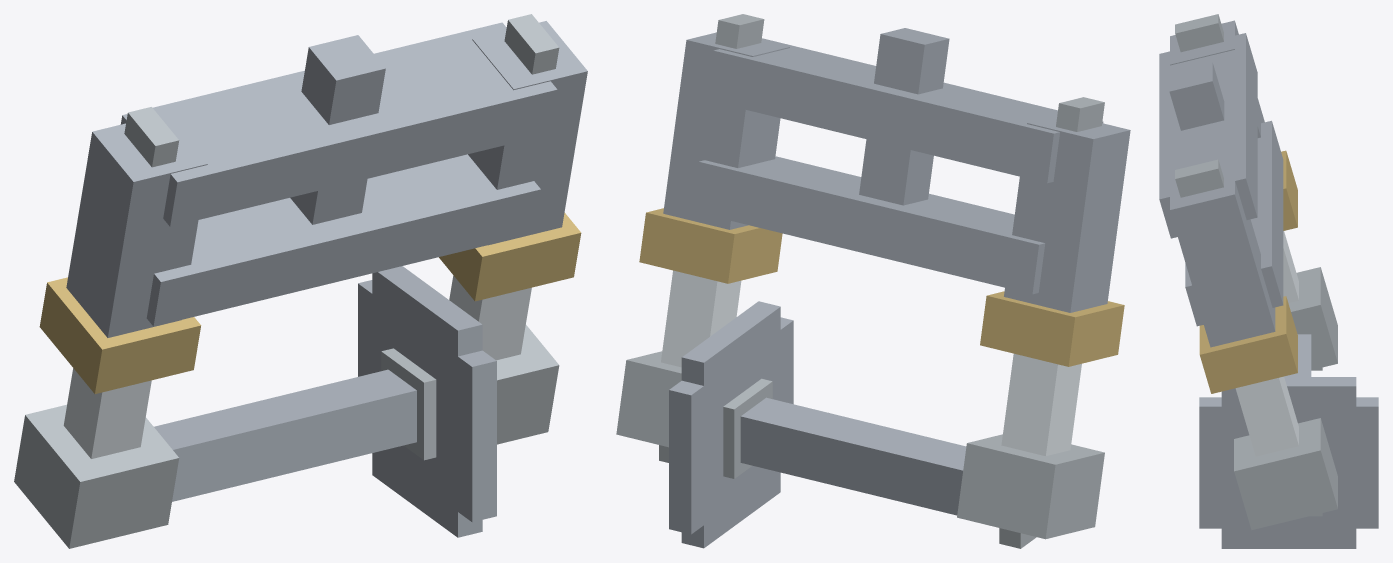
Rendered from fork_item.obj.
3 views of the same model, side by side, from view 1: azimuth 30°, elevation 25°; view 2: azimuth 150°, elevation 25°; view 3: azimuth 270°, elevation 25° (orthographic). The views are drawn at different scales.
Visible parts, largest first — view 1: fork_item; view 2: fork_item; view 3: fork_item.
Part boxes in pixels (x1,y1,x2,y2): fork_item: (14, 14, 587, 548); fork_item: (616, 14, 1130, 548); fork_item: (1159, 14, 1378, 548).
Size of the model in its own units: 1.21 by 1.29 by 0.6117.
